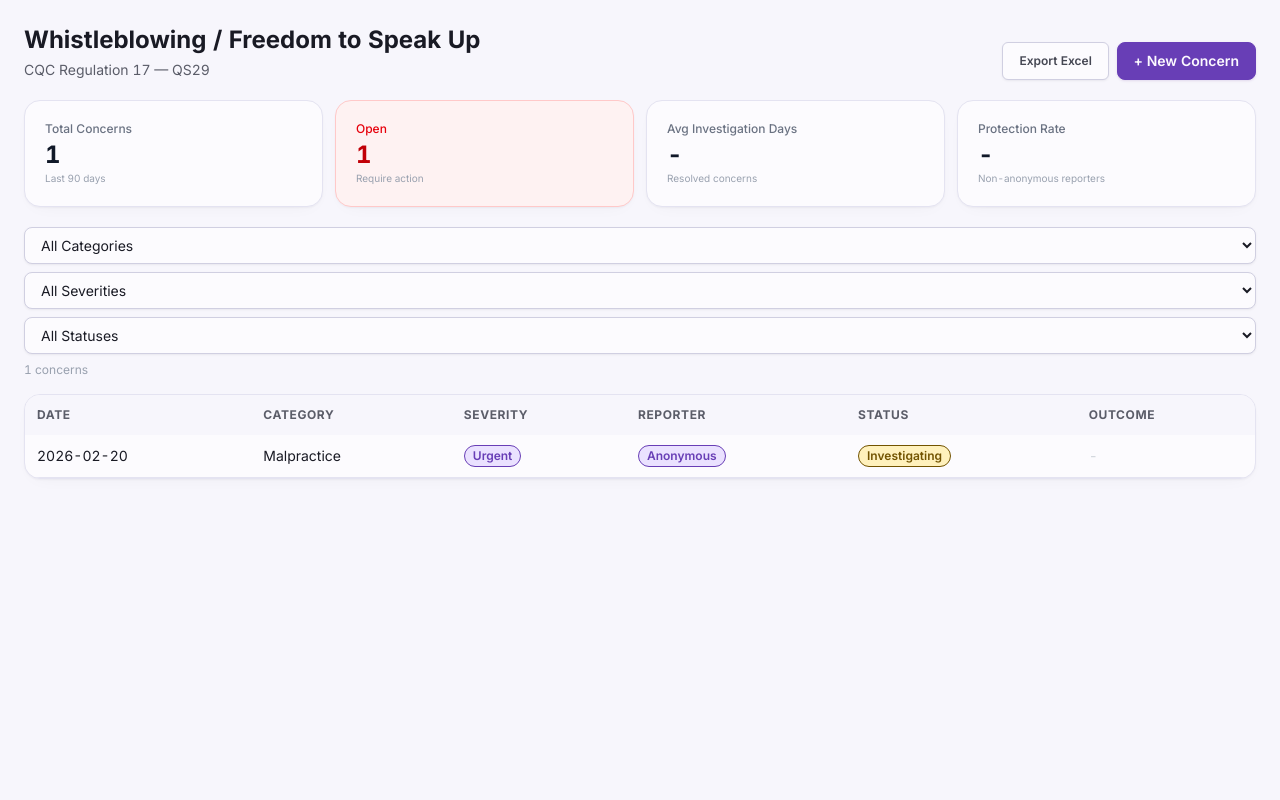
WhistleblowingTracker › locks anonymous status on existing concerns
Step 1. Click the button with aria-label "Open whistleblowing concern WB-002" → click(640, 456), box x1=25 y1=435 x2=1255 y2=478
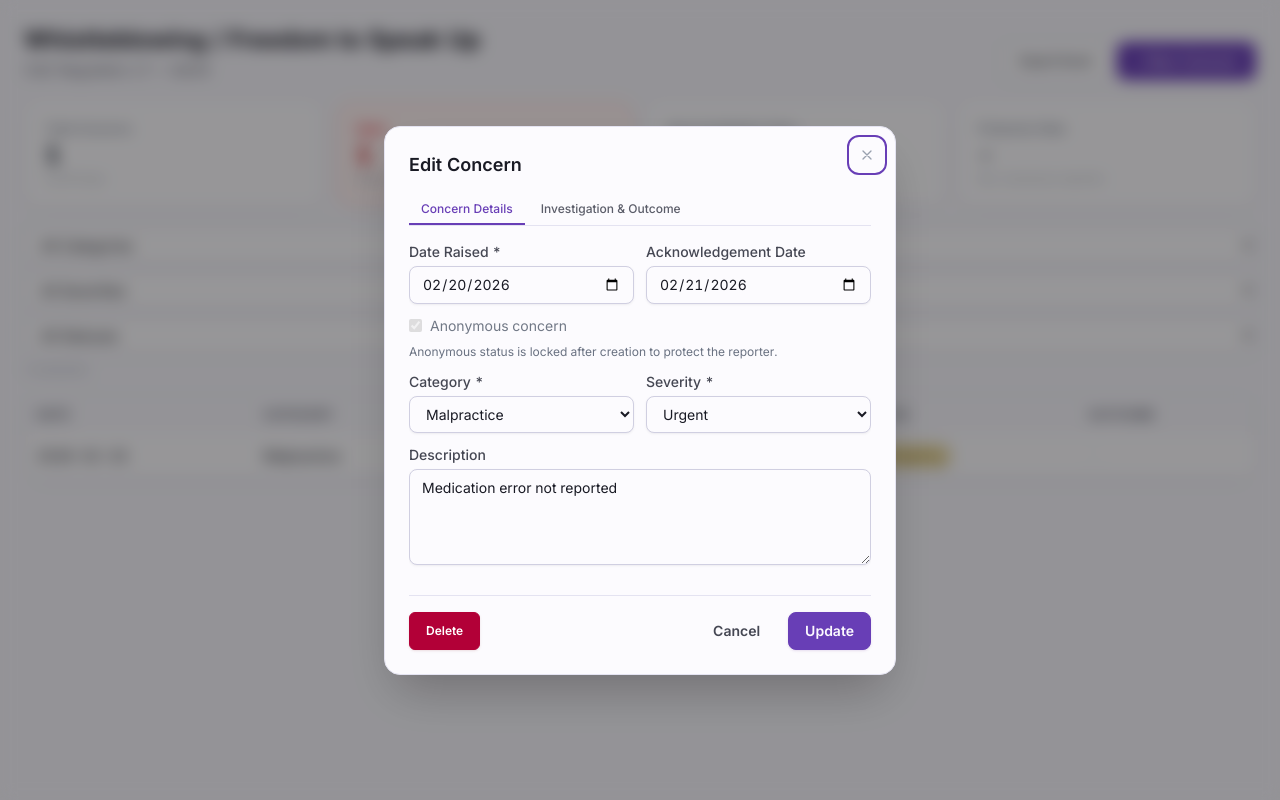
Check: the checkbox labelled "Anonymous concern" is disabled, box x1=409 y1=319 x2=422 y2=332
Check: the text "Anonymous status is locked after creation" is shown, box x1=409 y1=344 x2=778 y2=358
